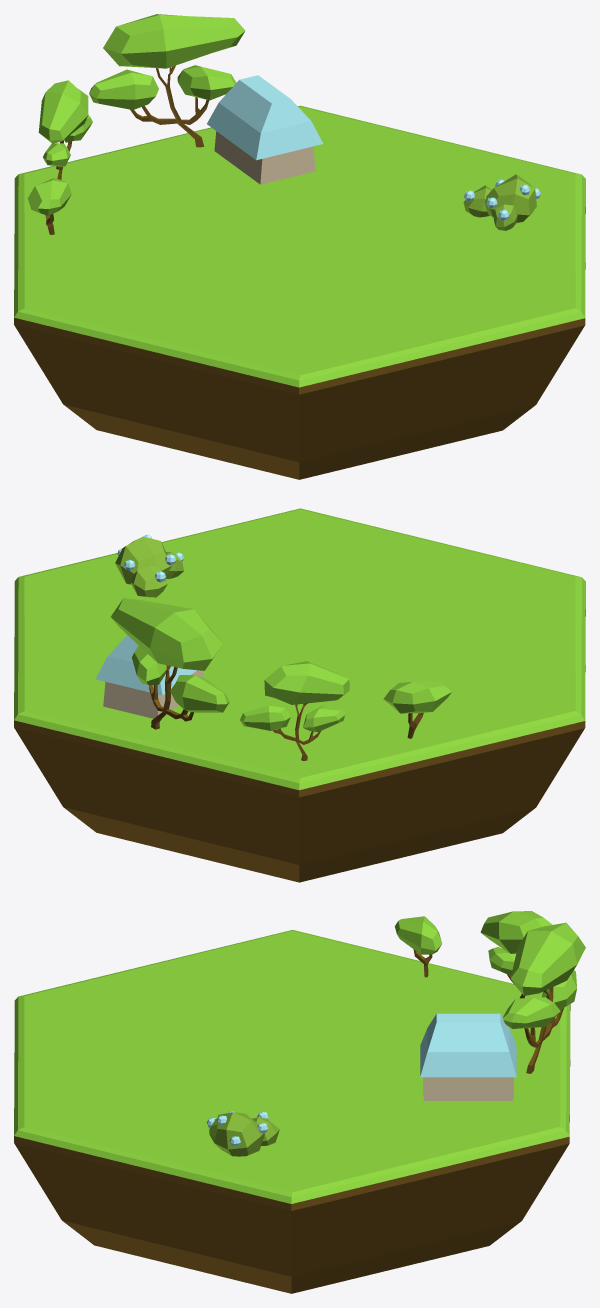
Rendered from Asset_Biome_Plain.fbx.
3 views of the same model, one above another, from view 1: azimuth 30°, elevation 25°; view 2: azimuth 150°, elevation 25°; view 3: azimuth 270°, elevation 25° (orthographic). The views are drawn at different scales.
Parts seen in each view (by area): view 1: Asset_Tile_Plain, Asset_Tree_Plain_01, Asset_HousePlain_01, Asset_Tree_Plain_02, Asset_Bush_Plain_01, Asset_Tree_Plain_03; view 2: Asset_Tile_Plain, Asset_Tree_Plain_01, Asset_Tree_Plain_02, Asset_HousePlain_01, Asset_Bush_Plain_01, Asset_Tree_Plain_03; view 3: Asset_Tile_Plain, Asset_HousePlain_01, Asset_Tree_Plain_01, Asset_Tree_Plain_02, Asset_Bush_Plain_01, Asset_Tree_Plain_03.
Part boxes in pixels (bbox=[...]): Asset_Tile_Plain: bbox=[14, 105, 585, 479]; Asset_Tree_Plain_01: bbox=[89, 14, 245, 147]; Asset_HousePlain_01: bbox=[207, 75, 323, 184]; Asset_Tree_Plain_02: bbox=[38, 80, 92, 179]; Asset_Bush_Plain_01: bbox=[463, 174, 536, 230]; Asset_Tree_Plain_03: bbox=[27, 178, 71, 234]; Asset_Tile_Plain: bbox=[14, 508, 585, 882]; Asset_Tree_Plain_01: bbox=[111, 598, 229, 729]; Asset_Tree_Plain_02: bbox=[240, 661, 349, 760]; Asset_HousePlain_01: bbox=[95, 635, 203, 718]; Asset_Bush_Plain_01: bbox=[115, 536, 183, 597]; Asset_Tree_Plain_03: bbox=[383, 681, 451, 738]; Asset_Tile_Plain: bbox=[14, 930, 570, 1293]; Asset_HousePlain_01: bbox=[420, 1013, 516, 1100]; Asset_Tree_Plain_01: bbox=[503, 922, 585, 1073]; Asset_Tree_Plain_02: bbox=[480, 911, 552, 998]; Asset_Bush_Plain_01: bbox=[209, 1112, 279, 1156]; Asset_Tree_Plain_03: bbox=[394, 916, 442, 977].
Bounding box in the file's own units: 436 × 206 × 389.
